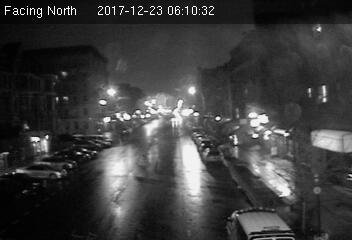car: (202, 147, 225, 163)
police: (224, 206, 296, 240)
